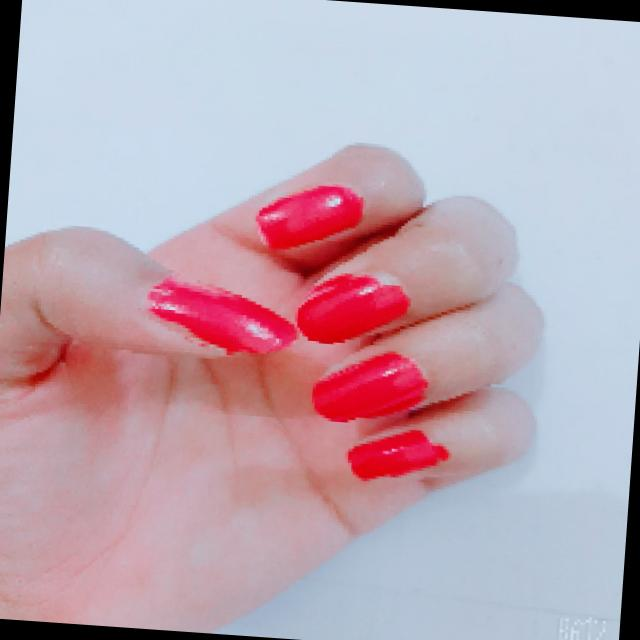Nail: (149, 276, 297, 353), (297, 274, 409, 345), (313, 352, 425, 420), (256, 185, 362, 249), (347, 429, 444, 481)
